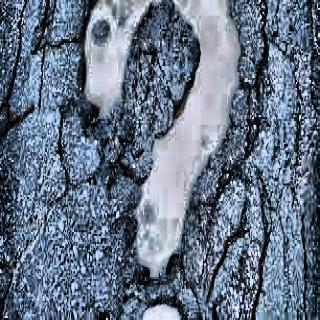alligator-crack: (213, 0, 318, 320), (0, 2, 81, 320)
pothole: (73, 0, 246, 272)
